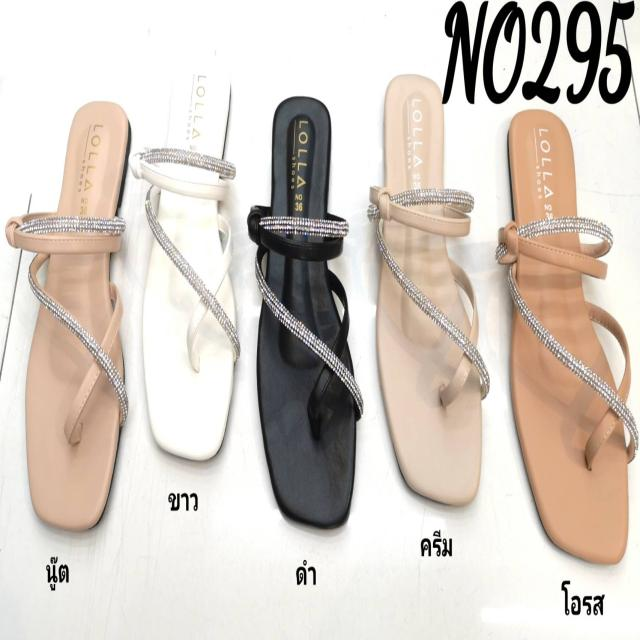black: (254, 92, 360, 529)
cream: (376, 71, 485, 501)
nood: (28, 100, 128, 532)
orot: (505, 114, 627, 567)
white: (142, 67, 235, 454)
